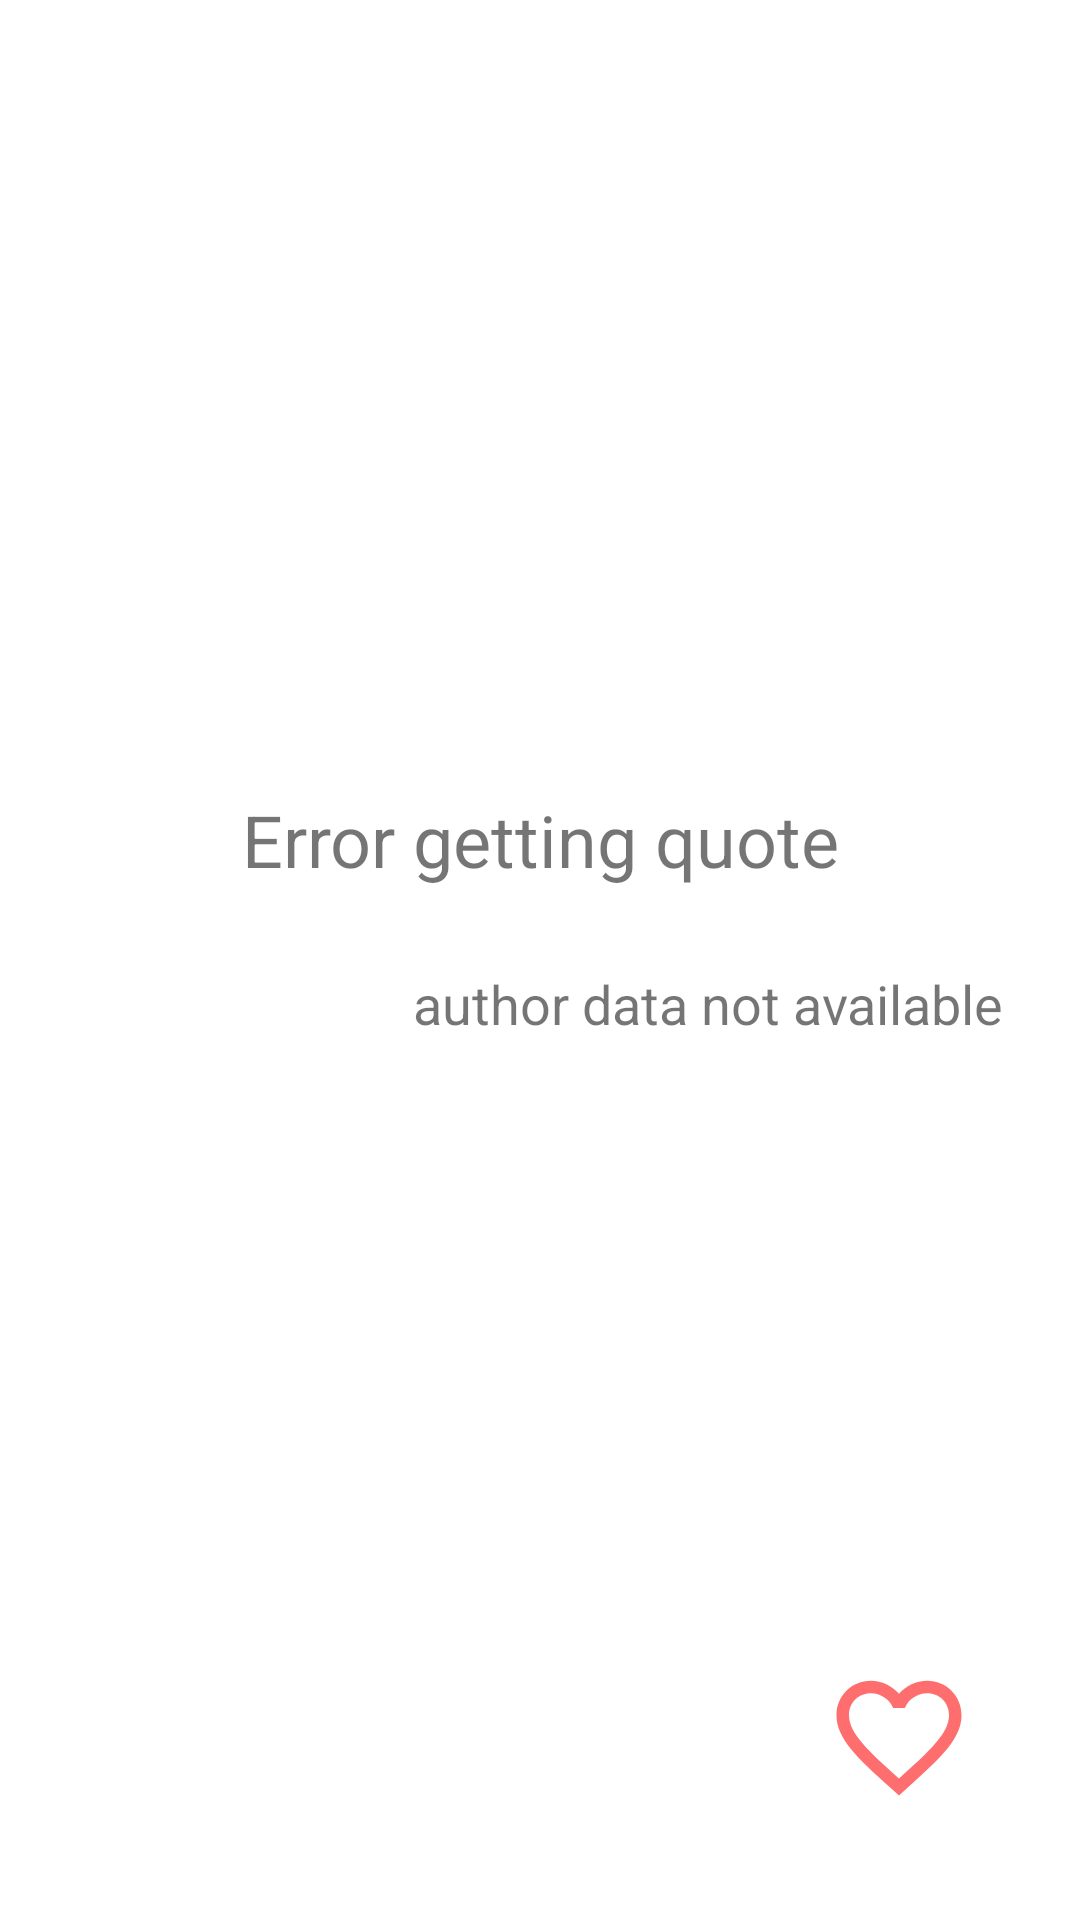

Point at icon controls on the screen. Image size 1080 x 1920, points as [x,y].
favorite border: [899,1737]
